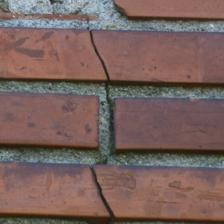Crack: (30, 5, 91, 115), (0, 3, 79, 66)
